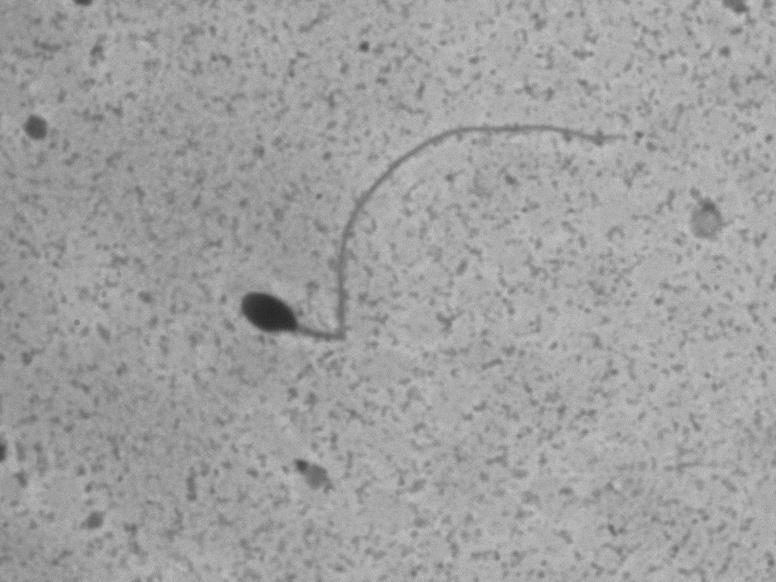Abnormal: (197, 103, 636, 370)
